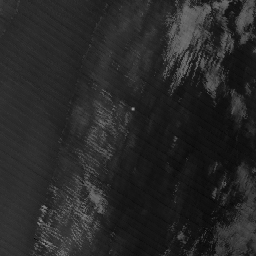Target: (130, 106, 136, 112)
